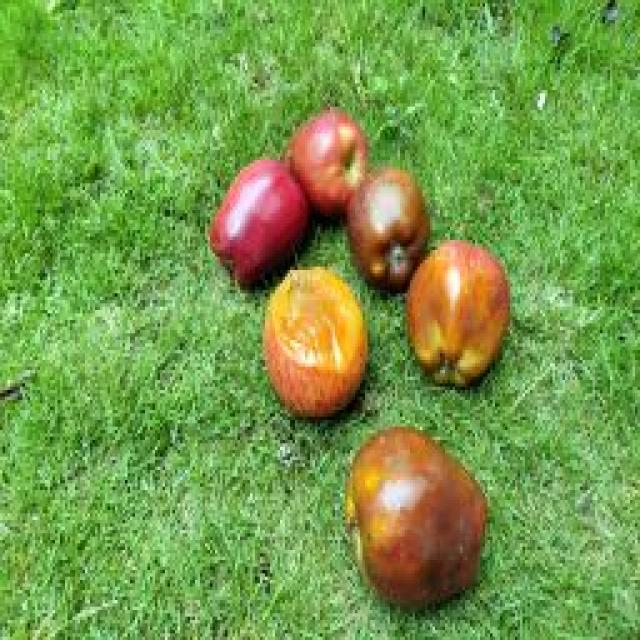Organik: (333, 416, 509, 621), (402, 225, 521, 392), (264, 264, 378, 419), (207, 153, 314, 287), (282, 105, 377, 222), (349, 169, 434, 280)
